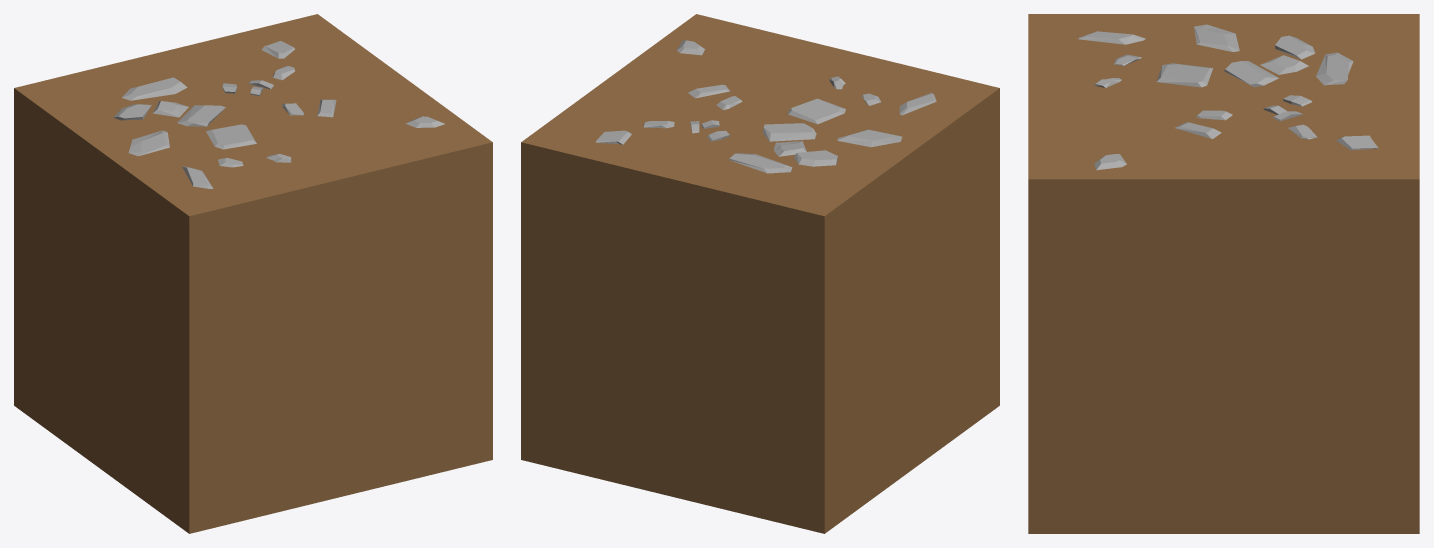
The model's file is RPG_Tiles_Square_Dirt_Rubble_01.FBX.
The picture shows the model from 3 angles, left to right: view 1: azimuth 30°, elevation 25°; view 2: azimuth 150°, elevation 25°; view 3: azimuth 270°, elevation 25°; orthographic projection. The views are drawn at different scales.
Parts seen in each view (by area): view 1: RPG_Tiles_Square_Dirt_Rubble_01; view 2: RPG_Tiles_Square_Dirt_Rubble_01; view 3: RPG_Tiles_Square_Dirt_Rubble_01.
Part boxes in pixels (x1=…): RPG_Tiles_Square_Dirt_Rubble_01: x1=14, y1=14, x2=492, y2=533; RPG_Tiles_Square_Dirt_Rubble_01: x1=521, y1=14, x2=999, y2=533; RPG_Tiles_Square_Dirt_Rubble_01: x1=1028, y1=14, x2=1419, y2=533.
Size of the model in its own units: 3000 by 3034 by 3000.
